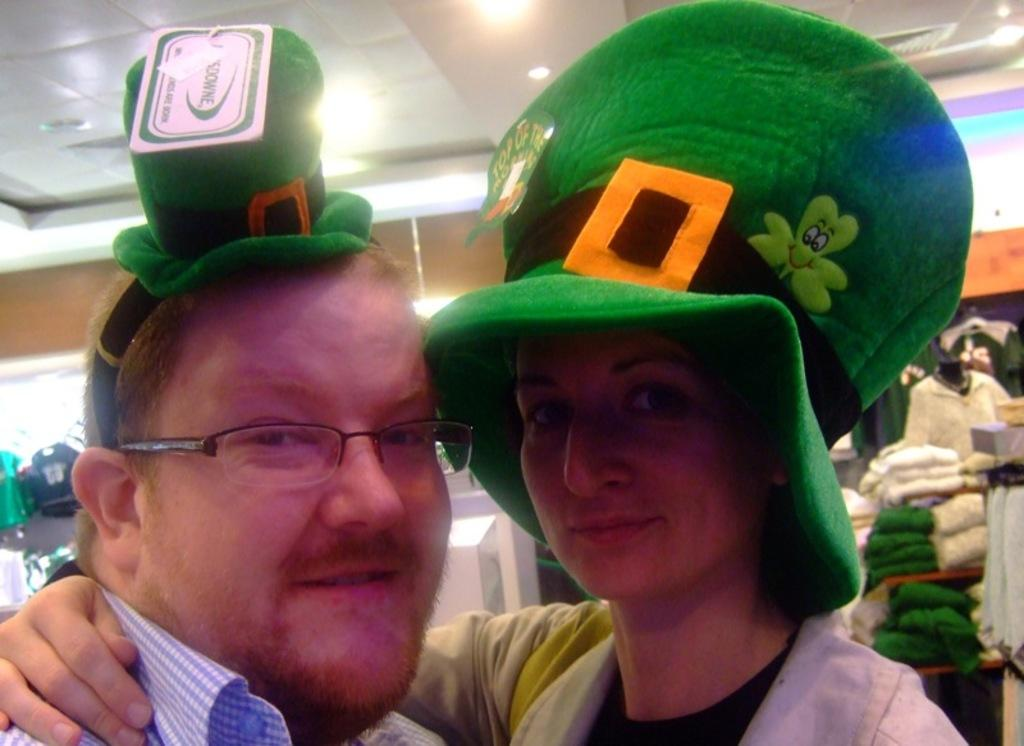Hat: (418, 0, 972, 618), (110, 18, 370, 298)
